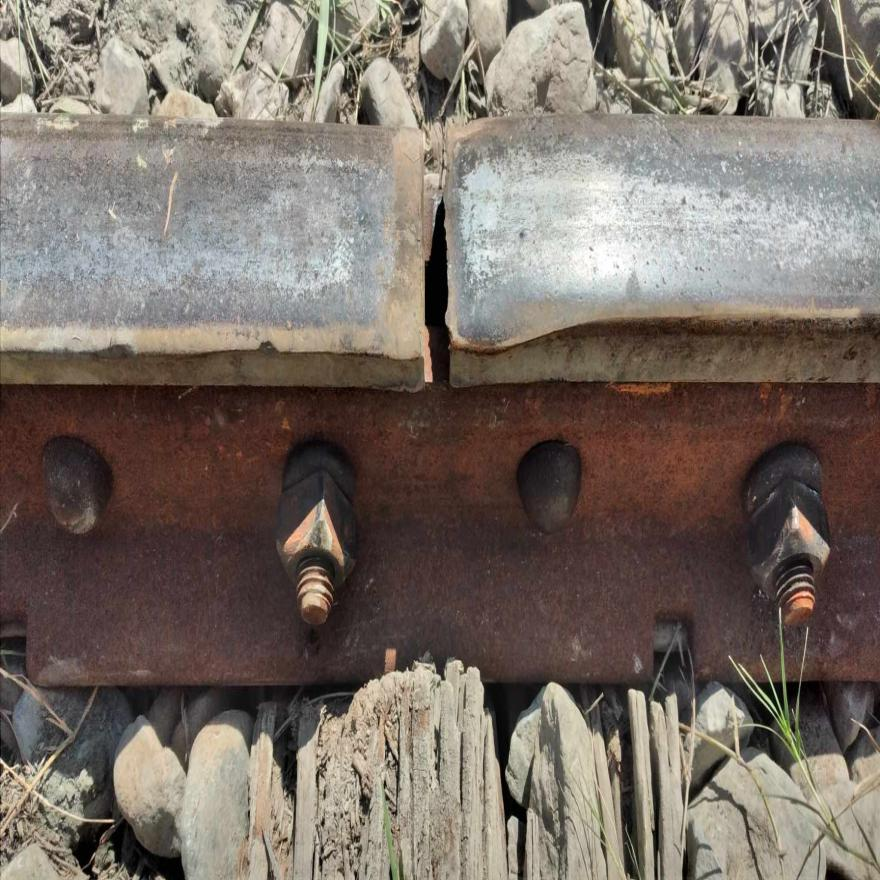railway-gap: (340, 49, 535, 453)
